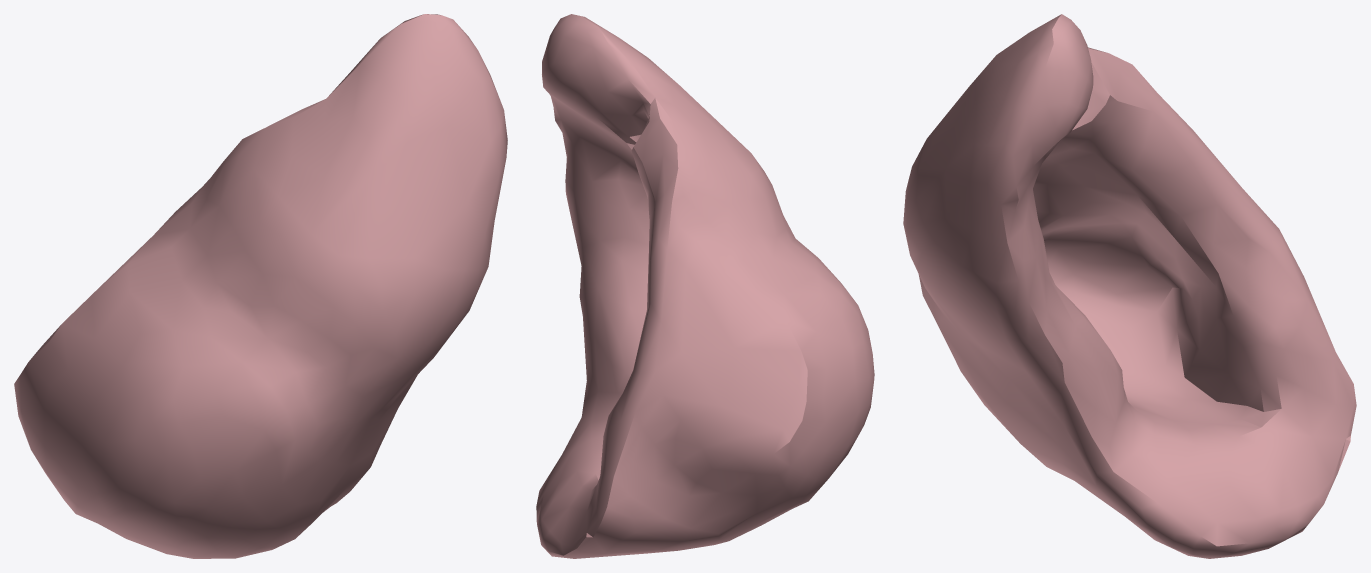
Rendered from fma272831_mm3168.glb.
The picture shows the model from 3 angles, left to right: view 1: azimuth 30°, elevation 25°; view 2: azimuth 150°, elevation 25°; view 3: azimuth 270°, elevation 25°; orthographic projection. The views are drawn at different scales.
Visible parts, largest first — view 1: FMA272831_MM3168; view 2: FMA272831_MM3168; view 3: FMA272831_MM3168.
Boxes of the visible parts, box(x1,y1,x2,y2) form: FMA272831_MM3168: box(14, 14, 507, 558); FMA272831_MM3168: box(536, 14, 874, 558); FMA272831_MM3168: box(903, 14, 1356, 558).
Bounding box in the file's own units: 0.0156 × 0.0205 × 0.0148.
